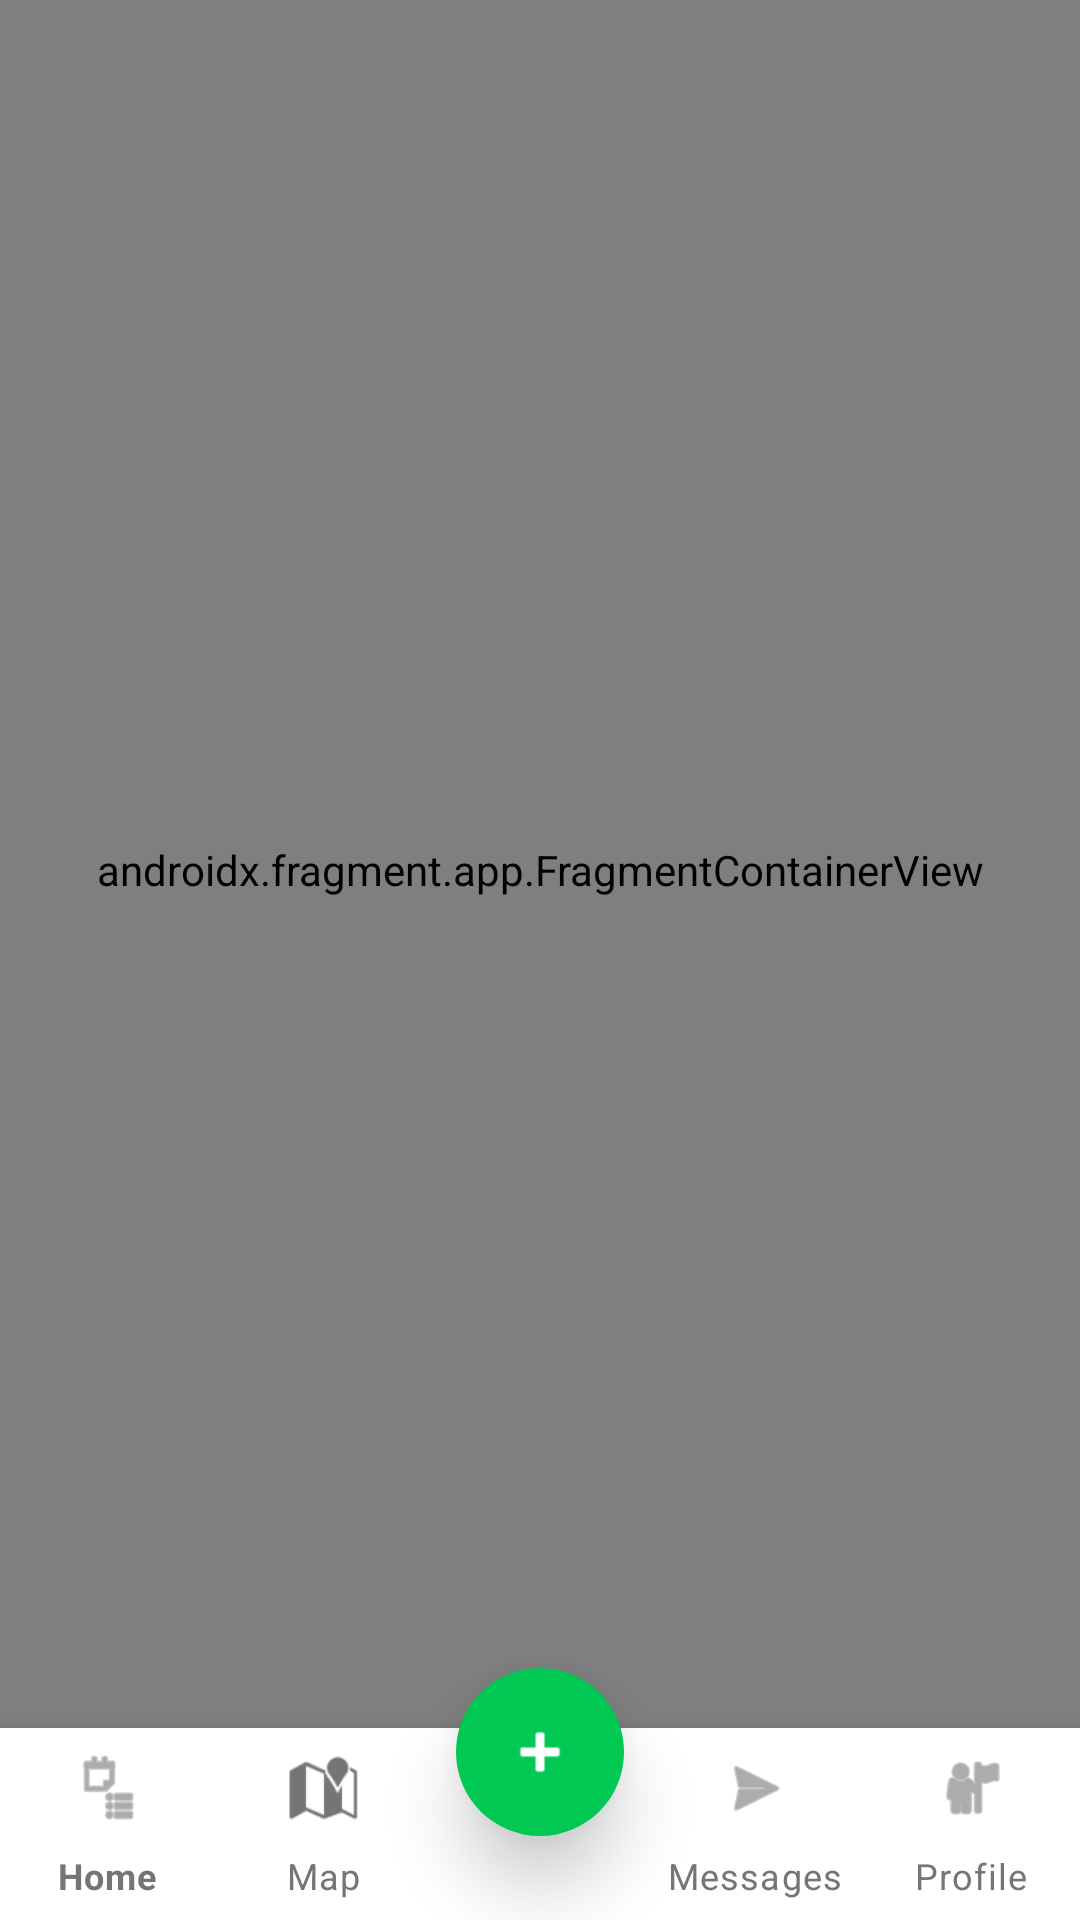

Icons on this 1080 x 1920 Android screen, each with the point to tap as point (x, y):
add: point (540, 1752)
